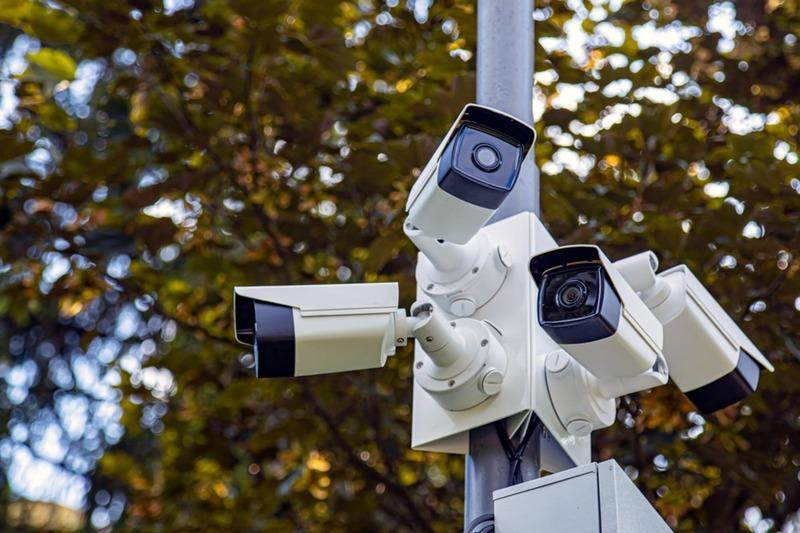bullet: (221, 277, 407, 387), (611, 311, 705, 477), (511, 288, 609, 438), (475, 84, 565, 243)
